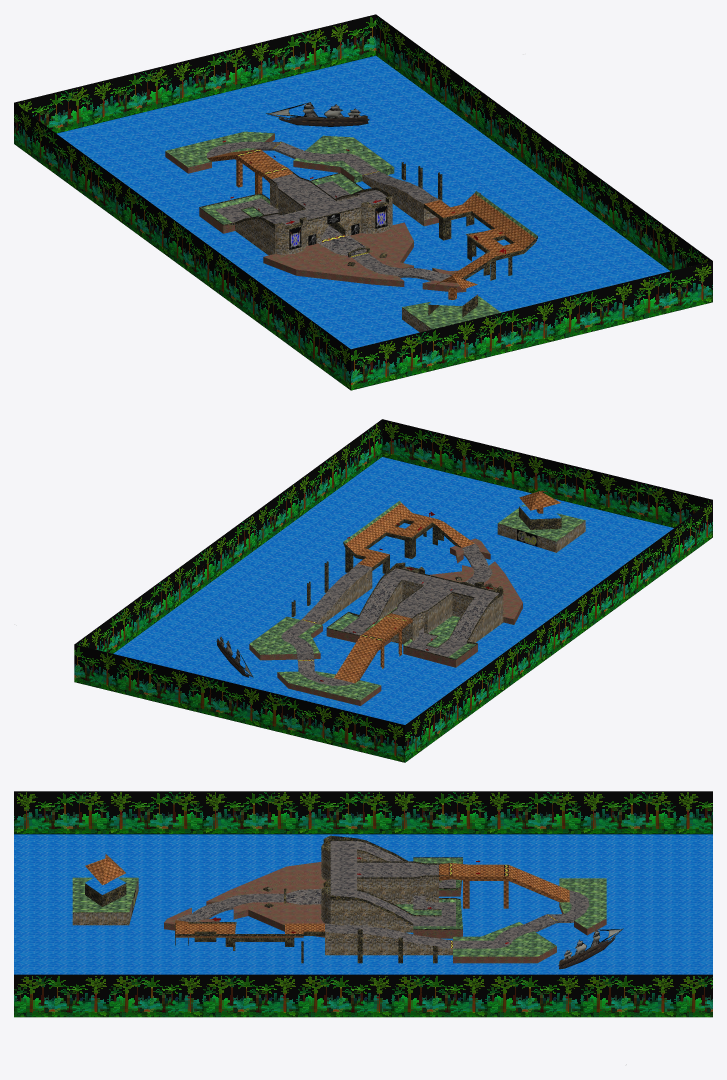
3 renders of one model, top to bottom at view 1: azimuth 30°, elevation 25°; view 2: azimuth 150°, elevation 25°; view 3: azimuth 270°, elevation 25°, orthographic. The views are drawn at different scales.
Visible parts, largest first — view 1: course-SKP--zwater.001, course-SKP--wfondosemi, course-SKP--pista, course-SKP--tierra.001, course-SKP--pasto.002, course-SKP--rocapared, course-SKP--maderaboth, course-SKP--rocaparbboth, course-SKP--Material.017; view 2: course-SKP--zwater.001, course-SKP--wfondosemi, course-SKP--pista, course-SKP--maderaboth, course-SKP--pasto.002, course-SKP--rocapared, course-SKP--tierra.001, course-SKP--rocaparbboth; view 3: course-SKP--zwater.001, course-SKP--wfondosemi, course-SKP--pista, course-SKP--rocapared, course-SKP--tierra.001, course-SKP--pasto.002, course-SKP--maderaboth, course-SKP--rocaparbboth, course-SKP--Material.017.
Part boxes in pixels (x1,y1,x2,y2): course-SKP--zwater.001: (57, 55, 669, 349); course-SKP--wfondosemi: (14, 14, 712, 390); course-SKP--pista: (206, 141, 451, 281); course-SKP--tierra.001: (165, 133, 466, 292); course-SKP--pasto.002: (166, 131, 537, 329); course-SKP--rocapared: (235, 175, 436, 332); course-SKP--maderaboth: (207, 149, 535, 299); course-SKP--rocaparbboth: (199, 162, 537, 317); course-SKP--Material.017: (266, 102, 369, 126); course-SKP--zwater.001: (113, 457, 673, 724); course-SKP--wfondosemi: (74, 419, 712, 762); course-SKP--pista: (281, 543, 499, 685); course-SKP--maderaboth: (334, 491, 560, 683); course-SKP--pasto.002: (249, 500, 584, 700); course-SKP--rocapared: (316, 520, 585, 644); course-SKP--tierra.001: (249, 538, 522, 705); course-SKP--rocaparbboth: (291, 506, 561, 659); course-SKP--zwater.001: (14, 834, 712, 974); course-SKP--wfondosemi: (14, 791, 712, 1017); course-SKP--pista: (177, 841, 589, 948); course-SKP--rocapared: (72, 848, 452, 955); course-SKP--tierra.001: (164, 861, 606, 963); course-SKP--pasto.002: (72, 858, 606, 956); course-SKP--maderaboth: (85, 854, 569, 937); course-SKP--rocaparbboth: (85, 835, 462, 963); course-SKP--Material.017: (558, 928, 623, 969).
Size of the model in its own units: 119154 by 11520 by 147919.
Materials: 18 (17 with a texture image).
